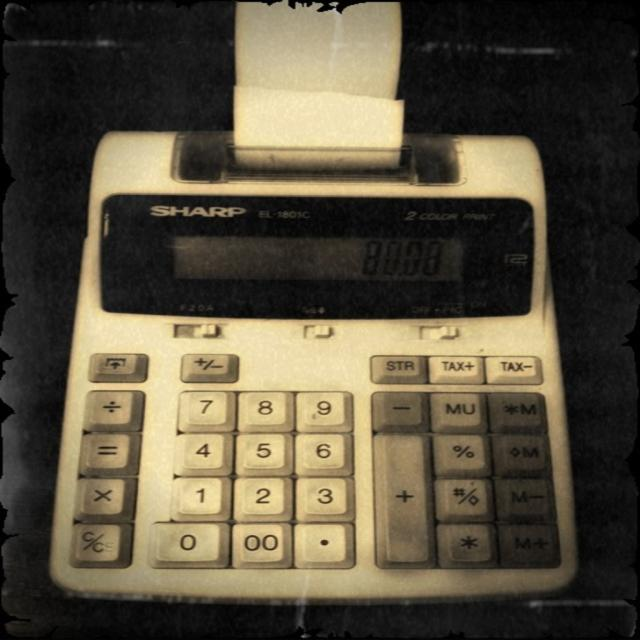Calculator: (41, 126, 581, 606)
